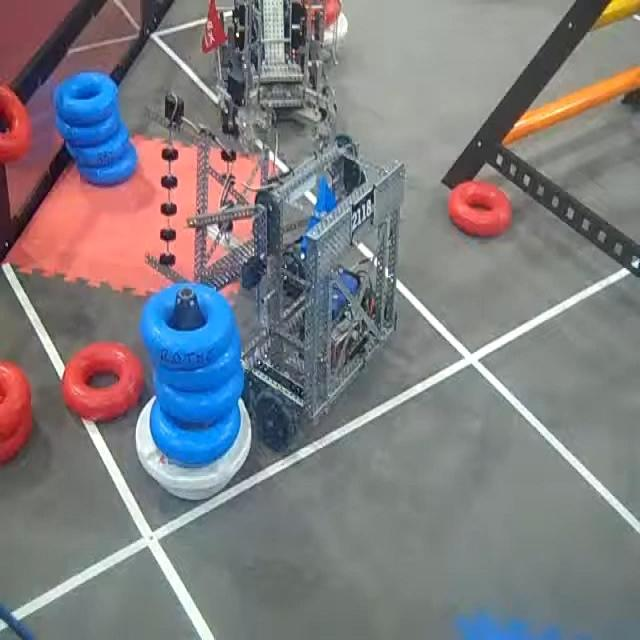Blue-Ring: (140, 283, 236, 369), (150, 400, 240, 466), (155, 330, 241, 392), (155, 367, 244, 424), (55, 72, 118, 125), (66, 123, 129, 167), (56, 108, 121, 146), (78, 143, 138, 184)
Red-Ring: (65, 343, 144, 421), (449, 182, 511, 236), (0, 85, 31, 162), (0, 362, 31, 439), (0, 412, 31, 462)
